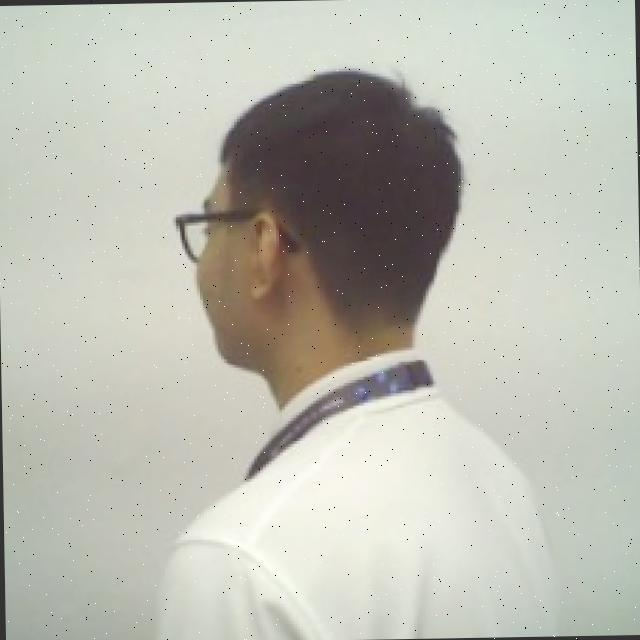no_gloves: (210, 57, 476, 336)
